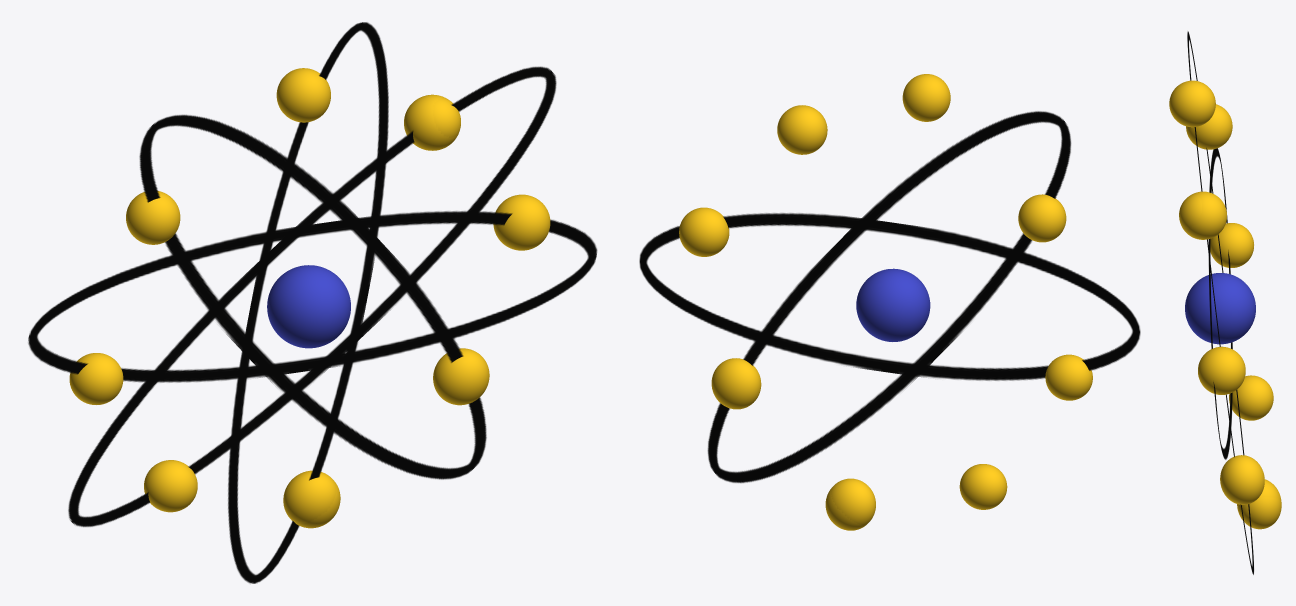
The model's file is chemistry_atomic_model.glb.
3 renders of one model, left to right at view 1: azimuth 30°, elevation 25°; view 2: azimuth 150°, elevation 25°; view 3: azimuth 270°, elevation 25°, orthographic. The views are drawn at different scales.
Visible parts, largest first — view 1: node_id166_17, Object_7, Object_19, Object_21, Object_11, Object_9, Object_25, Object_5, Object_23, Object_13, Object_17; view 2: node_id166_17, Object_7, Object_19, Object_21, Object_13, Object_11, Object_9, Object_25, Object_5, Object_23; view 3: Object_7, node_id166_17, Object_21, Object_19, Object_11, Object_5, Object_25, Object_13, Object_9, Object_27, Object_17, Object_23.
Part boxes in pixels (left/top/right/bottom): node_id166_17: left=28, top=22, right=597, bottom=583; Object_7: left=267, top=265, right=350, bottom=348; Object_19: left=433, top=348, right=489, bottom=405; Object_21: left=493, top=194, right=550, bottom=250; Object_11: left=276, top=68, right=330, bottom=122; Object_9: left=126, top=191, right=180, bottom=244; Object_25: left=144, top=460, right=197, bottom=512; Object_5: left=69, top=353, right=123, bottom=404; Object_23: left=283, top=470, right=336, bottom=523; Object_13: left=404, top=94, right=458, bottom=150; Object_17: left=432, top=98, right=460, bottom=137; node_id166_17: left=639, top=111, right=1140, bottom=483; Object_7: left=856, top=268, right=930, bottom=341; Object_19: left=711, top=358, right=761, bottom=409; Object_21: left=679, top=207, right=729, bottom=256; Object_13: left=777, top=105, right=827, bottom=154; Object_11: left=902, top=74, right=950, bottom=121; Object_9: left=1018, top=194, right=1066, bottom=242; Object_25: left=959, top=464, right=1007, bottom=509; Object_5: left=1045, top=354, right=1092, bottom=400; Object_23: left=831, top=478, right=875, bottom=524; Object_7: left=1185, top=273, right=1255, bottom=344; node_id166_17: left=1187, top=31, right=1253, bottom=574; Object_21: left=1198, top=346, right=1245, bottom=394; Object_19: left=1220, top=455, right=1264, bottom=504; Object_11: left=1169, top=80, right=1215, bottom=127; Object_5: left=1210, top=223, right=1253, bottom=267; Object_25: left=1229, top=375, right=1273, bottom=420; Object_13: left=1181, top=191, right=1226, bottom=239; Object_9: left=1186, top=104, right=1232, bottom=149; Object_27: left=1237, top=497, right=1281, bottom=529; Object_17: left=1179, top=194, right=1201, bottom=228; Object_23: left=1237, top=479, right=1281, bottom=505.
Size of the model in its own units: 1 by 0.9832 by 0.1955.
Materials: 9 (9 with a texture image).
